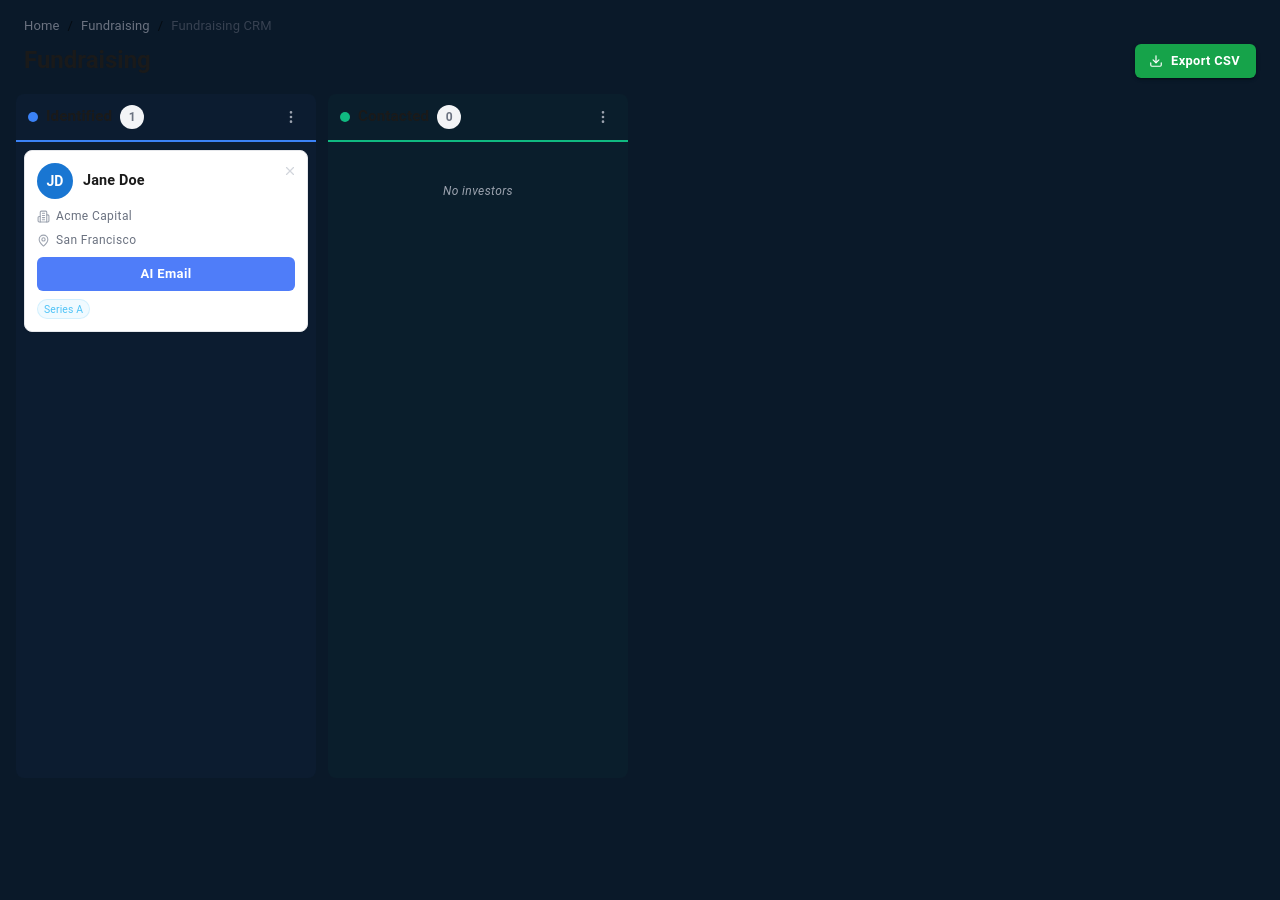
Test: KanbanPage › shows activity timeline in sidebar
Click the text "Jane Doe". click: (114, 180)
box: [83,172,145,189]
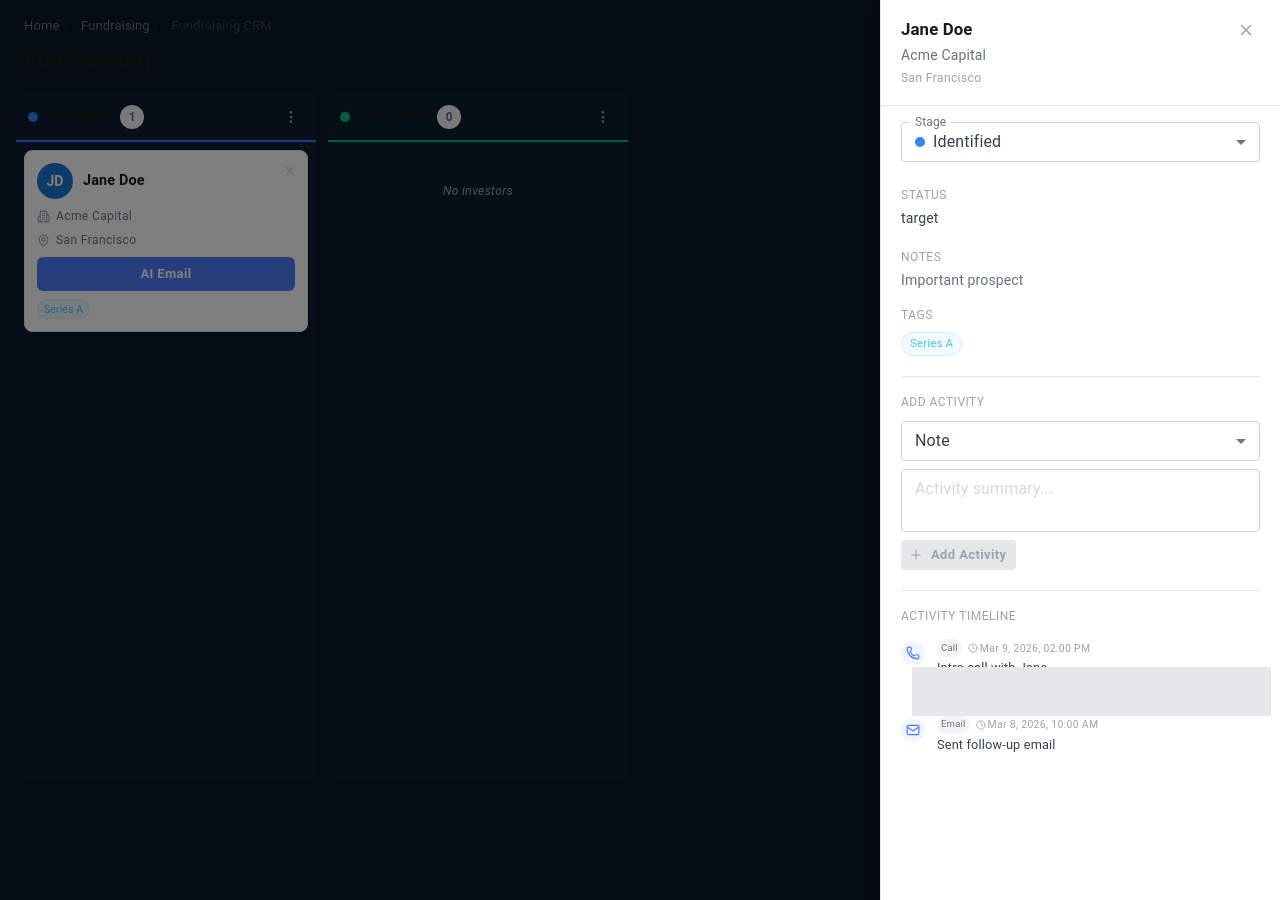
Now the text "Activity Timeline" is shown, box [901,610,1016,624]
Now the text "Intro call with Jane" is shown, box [937,660,1047,675]
Now the text "Sent follow-up email" is shown, box [937,737,1056,752]
